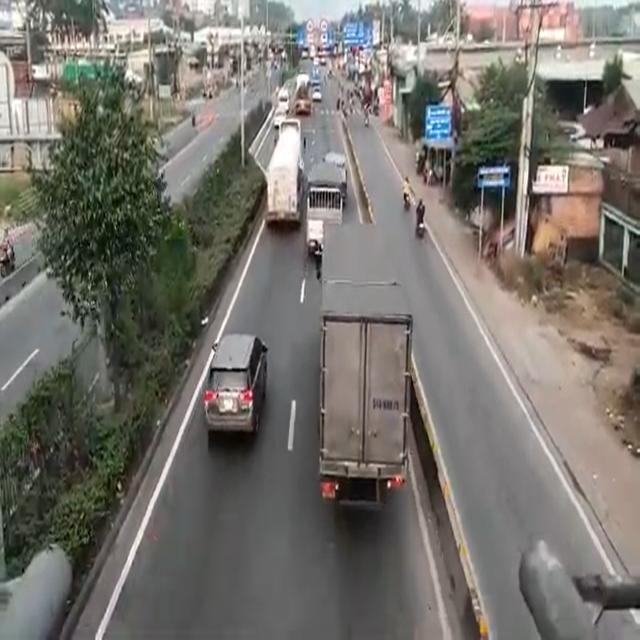car: (209, 331, 263, 440)
motor: (415, 198, 427, 243)
truck: (318, 220, 413, 498), (267, 117, 301, 226), (307, 161, 342, 245)
